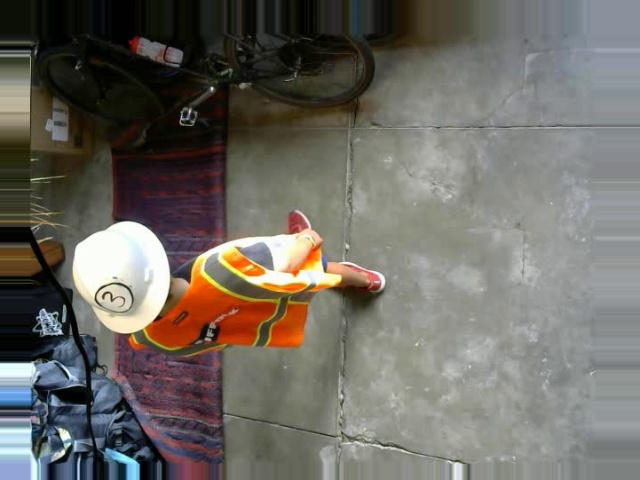three: (94, 280, 133, 312)
